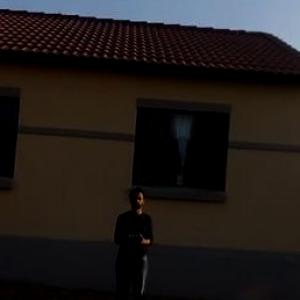follow: (108, 179, 157, 299)
